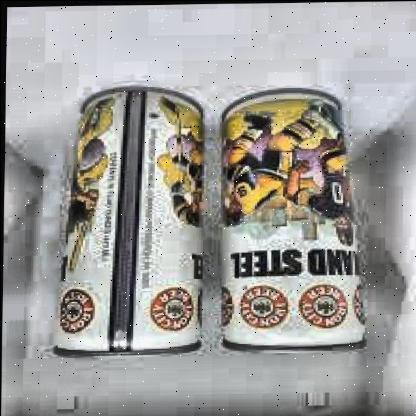Can: (46, 77, 209, 363), (207, 81, 370, 357)
